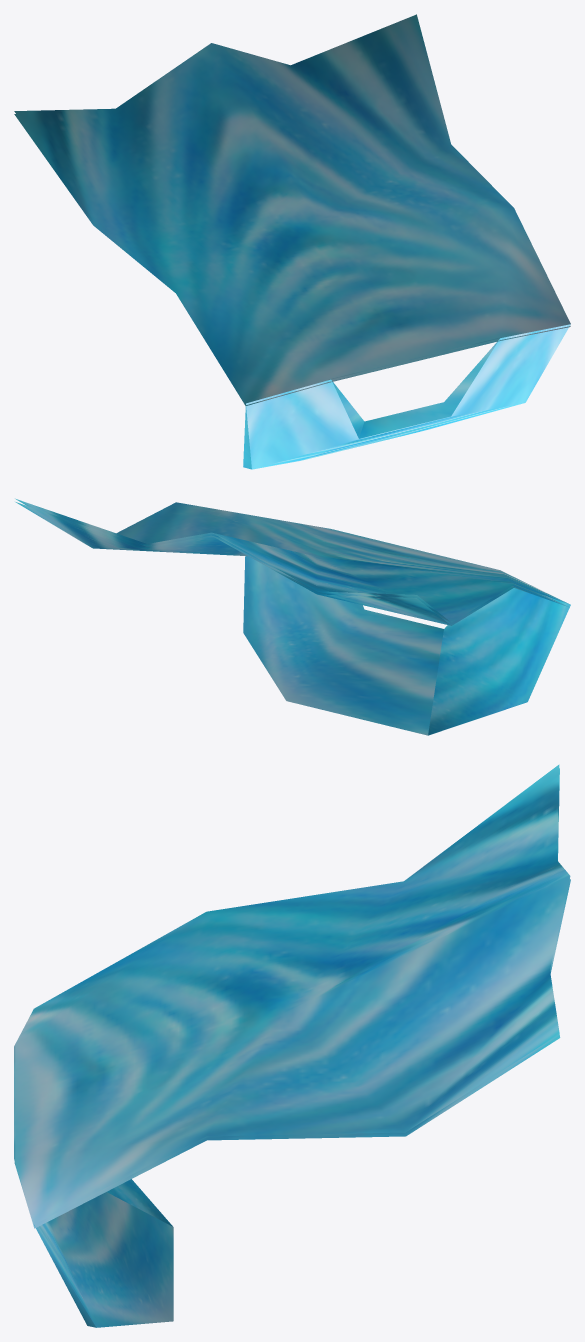
The model's file is item07.obj.
3 renders of one model, top to bottom at view 1: azimuth 30°, elevation 25°; view 2: azimuth 150°, elevation 25°; view 3: azimuth 270°, elevation 25°, orthographic. The views are drawn at different scales.
Parts seen in each view (by area): view 1: 0; view 2: 0; view 3: 0.
Boxes of the visible parts, x1,y1,x2,y2 form: 0: (14,14,570,469); 0: (15,498,570,735); 0: (14,764,570,1327).
Bounding box in the file's own units: 17.14 × 11.89 × 15.07.
